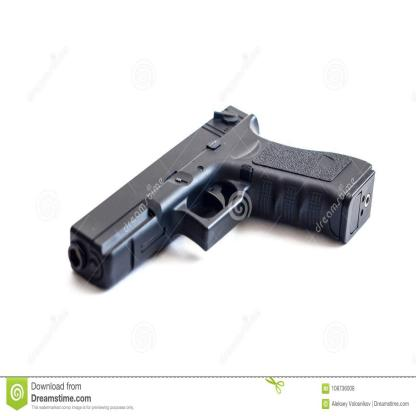handgun: (70, 104, 375, 314)
